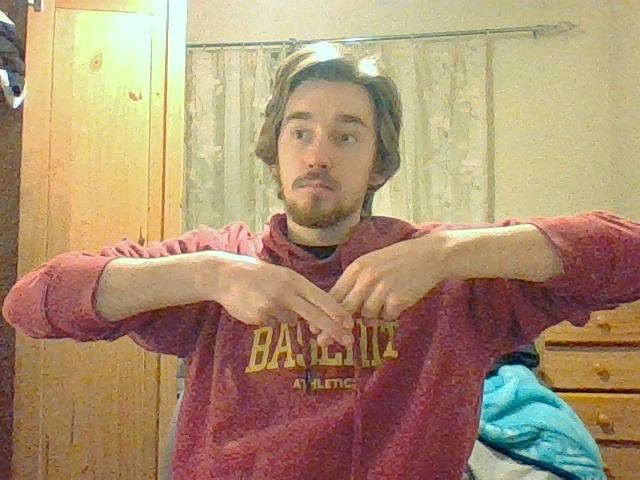father: (290, 252, 383, 347)
